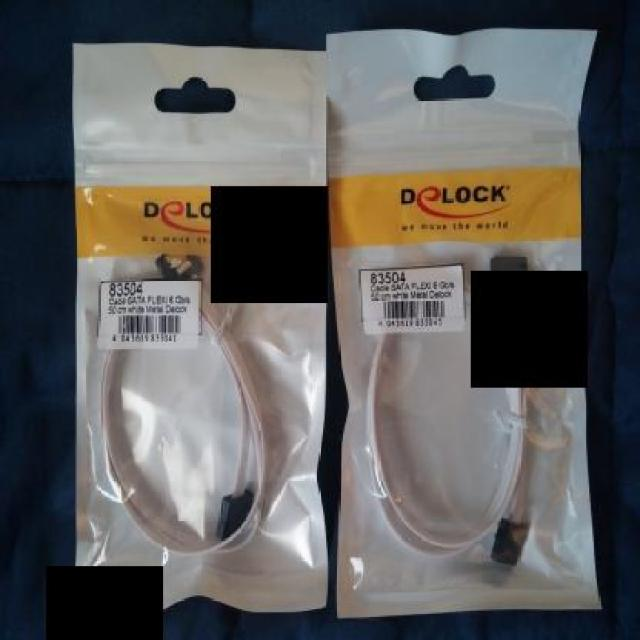plastic bag: (326, 28, 602, 617), (63, 42, 328, 620)
